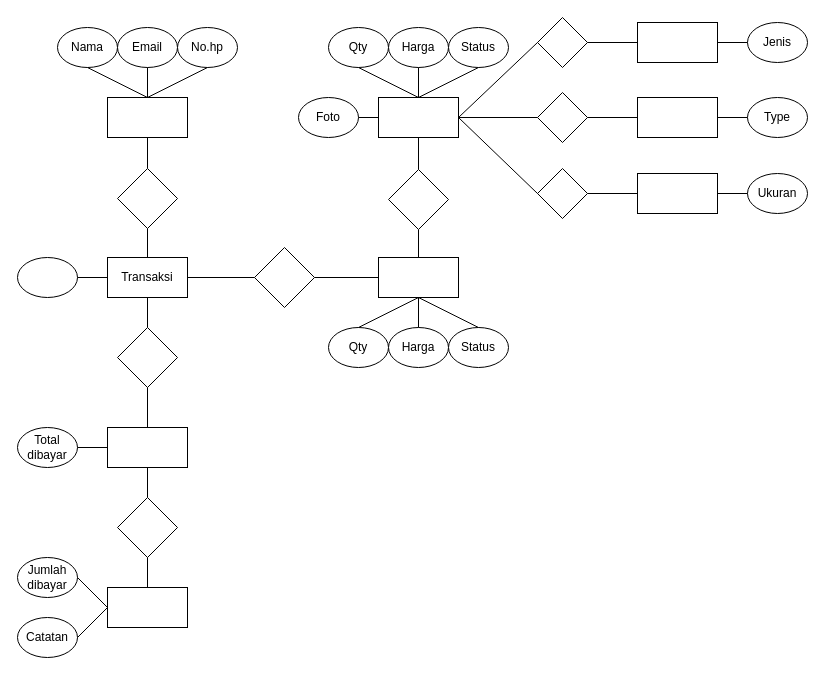
Image size: 825x675. Some labels were removed from this diagram. Here are the shapes that lost their labels. From the top down, the box of each, then its label:
(636, 22, 718, 62): Jenis product
(106, 96, 188, 138): Customer
(378, 96, 458, 138): Product
(636, 96, 718, 138): Type product
(636, 172, 718, 214): Ukuran product
(16, 256, 78, 298): Total tagihan
(378, 256, 458, 298): Detail Transaksi
(106, 426, 188, 468): Pembayaran
(106, 586, 188, 628): Detail pembayaran
